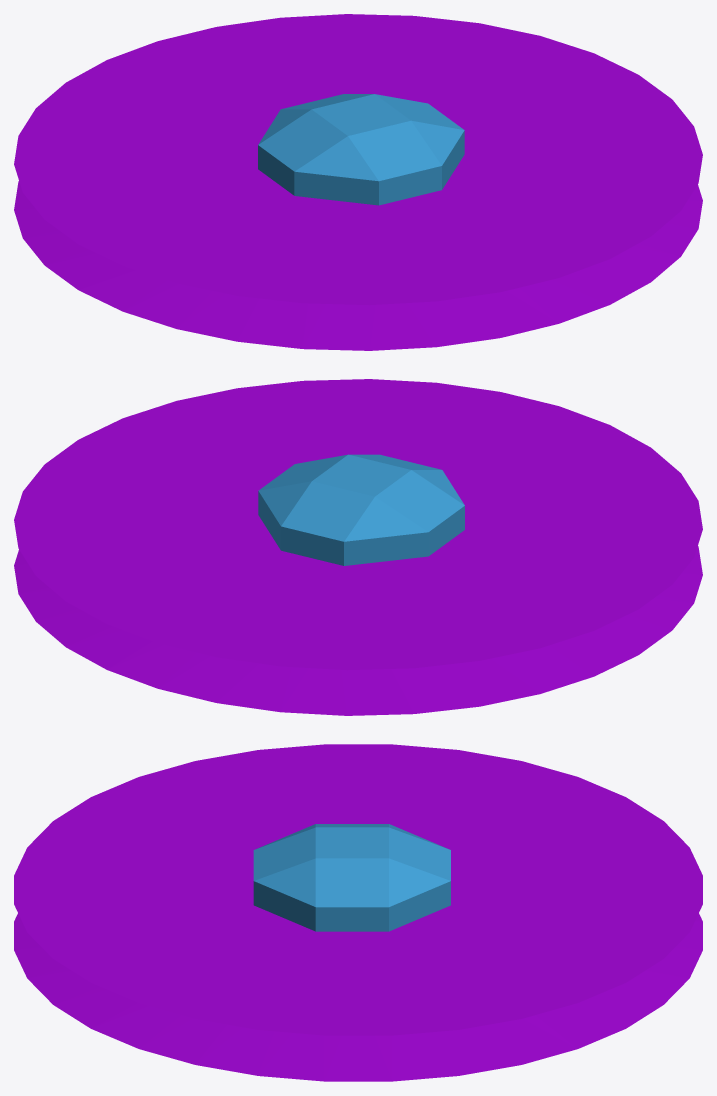
Rendered from UFO.fbx.
3 renders of one model, top to bottom at view 1: azimuth 30°, elevation 25°; view 2: azimuth 150°, elevation 25°; view 3: azimuth 270°, elevation 25°, orthographic.
Parts seen in each view (by area): view 1: Sphere, Cube; view 2: Sphere, Cube; view 3: Sphere, Cube.
Boxes of the visible parts, x1,y1,x2,y2 form: Sphere: (14,14,702,350); Cube: (258,94,464,205); Sphere: (14,379,702,715); Cube: (258,454,464,565); Sphere: (14,744,702,1081); Cube: (253,824,450,931).
Size of the model in its own units: 263 by 42.62 by 263.
